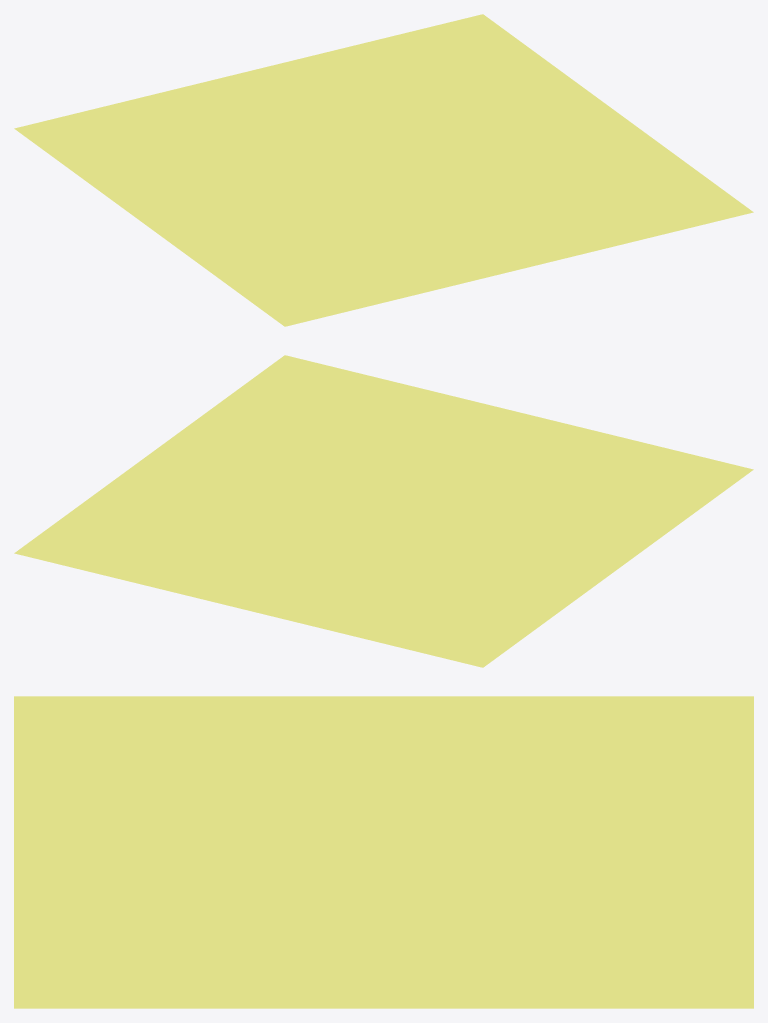
Rendered from Memo.fbx.
3 renders of one model, top to bottom at view 1: azimuth 30°, elevation 25°; view 2: azimuth 150°, elevation 25°; view 3: azimuth 270°, elevation 25°, orthographic. The views are drawn at different scales.
Visible parts, largest first — view 1: MemoBottom, MemoTop; view 2: MemoBottom, MemoTop; view 3: MemoBottom, MemoTop.
Part boxes in pixels (box(x1,y1,x2,y2)): MemoBottom: box(48, 39, 753, 326); MemoTop: box(14, 14, 516, 153); MemoBottom: box(48, 355, 753, 642); MemoTop: box(14, 528, 516, 667); MemoBottom: box(14, 696, 661, 1008); MemoTop: box(661, 696, 753, 1008).
Bounding box in the file's own units: 200 × 4.48e-05 × 200.
